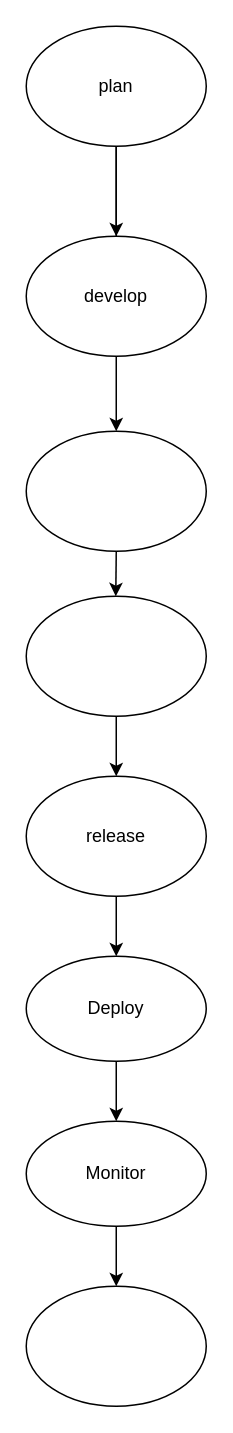
Some shapes in this 233 by 1433 pixel diagram are drawn without their labels. The centre of each missing label's shape, as x and y in pixels:
build: (115,490)
Deployment: (115,1345)
test: (115,655)
